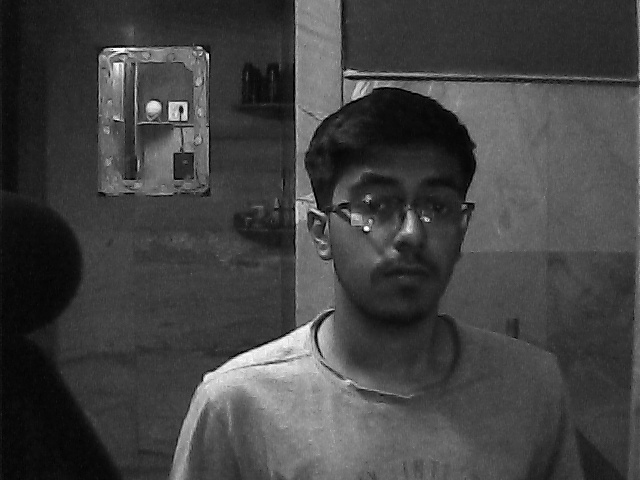nomask: (322, 142, 469, 333)
